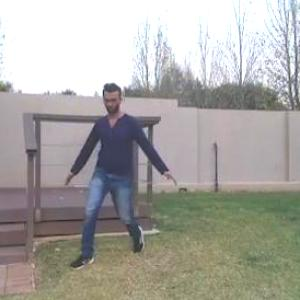land: (61, 78, 176, 276)
